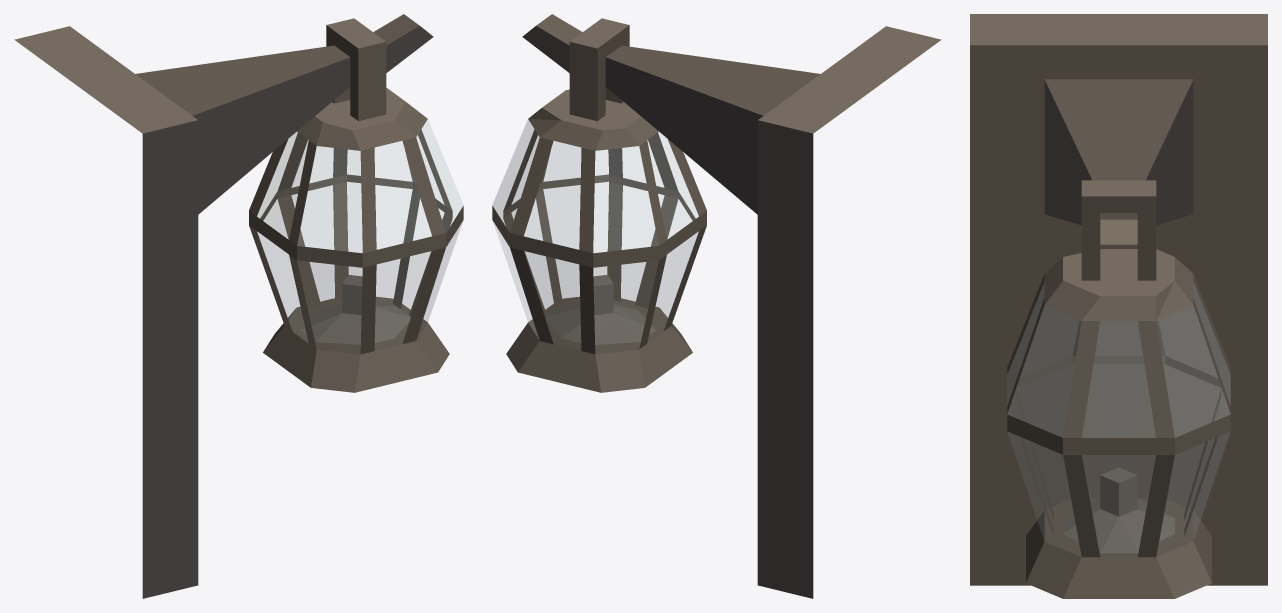
The picture shows the model from 3 angles, left to right: view 1: azimuth 30°, elevation 25°; view 2: azimuth 150°, elevation 25°; view 3: azimuth 270°, elevation 25°; orthographic projection. The views are drawn at different scales.
Size of the model in its own units: 52 by 64 by 32.
Materials: 2 (2 with a texture image).
